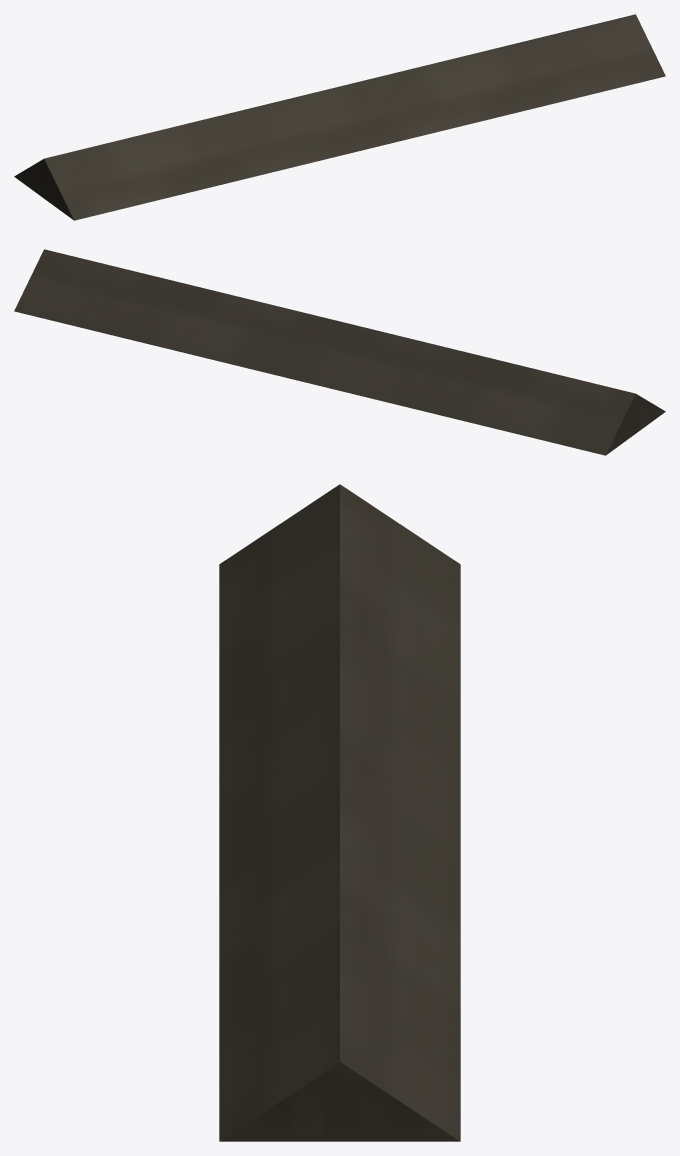
File: house_01_roof_ridge.glb
3 renders of one model, top to bottom at view 1: azimuth 30°, elevation 25°; view 2: azimuth 150°, elevation 25°; view 3: azimuth 270°, elevation 25°, orthographic. The views are drawn at different scales.
Parts seen in each view (by area): view 1: outdoor_house_01_roof_ridge; view 2: outdoor_house_01_roof_ridge; view 3: outdoor_house_01_roof_ridge.
Boxes of the visible parts, x1=… form: outdoor_house_01_roof_ridge: x1=14, y1=14, x2=665, y2=220; outdoor_house_01_roof_ridge: x1=14, y1=249, x2=665, y2=455; outdoor_house_01_roof_ridge: x1=219, y1=484, x2=460, y2=1141.
Bounding box in the file's own units: 3.4 × 0.22 × 0.6.
1 material, 1 textured.
